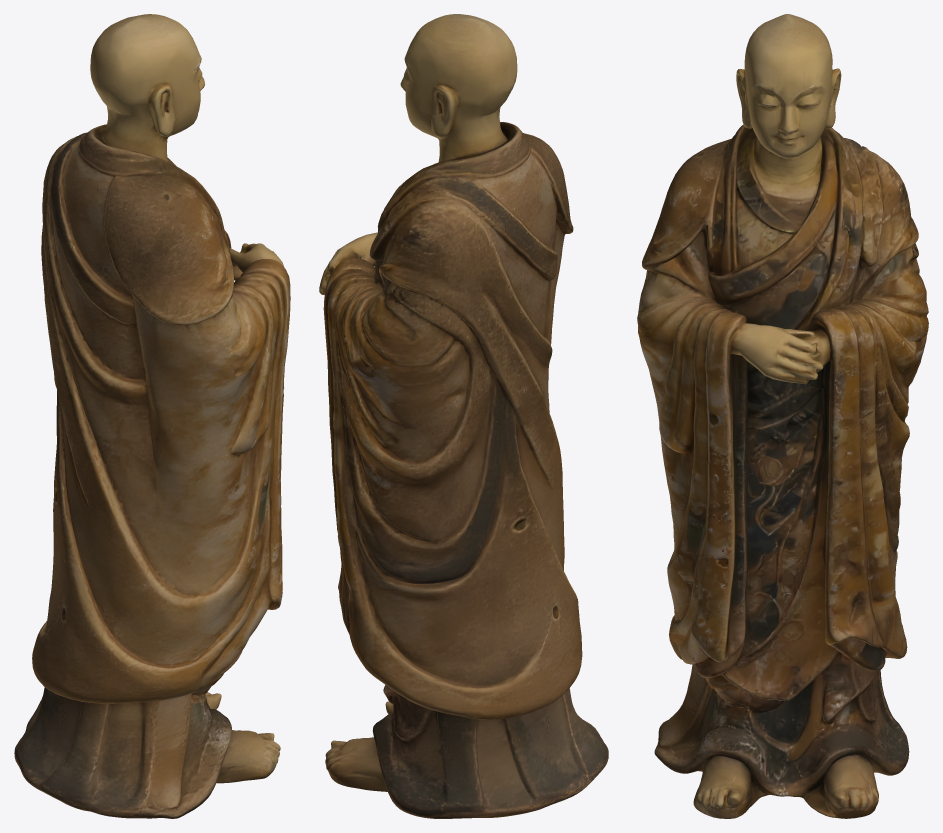
File: monk.glb
3 views of the same model, side by side, from view 1: azimuth 30°, elevation 25°; view 2: azimuth 150°, elevation 25°; view 3: azimuth 270°, elevation 25° (orthographic).
Visible parts, largest first — view 1: tripo_node_6f725af5-0d52-4f4d-a2b4-d3cd817dbdd0; view 2: tripo_node_6f725af5-0d52-4f4d-a2b4-d3cd817dbdd0; view 3: tripo_node_6f725af5-0d52-4f4d-a2b4-d3cd817dbdd0.
Boxes of the visible parts, bbox=[...] form: tripo_node_6f725af5-0d52-4f4d-a2b4-d3cd817dbdd0: bbox=[14, 14, 290, 818]; tripo_node_6f725af5-0d52-4f4d-a2b4-d3cd817dbdd0: bbox=[319, 14, 608, 818]; tripo_node_6f725af5-0d52-4f4d-a2b4-d3cd817dbdd0: bbox=[637, 14, 928, 818].
Size of the model in its own units: 0.3483 by 1 by 0.3512.
1 material, 1 textured.
